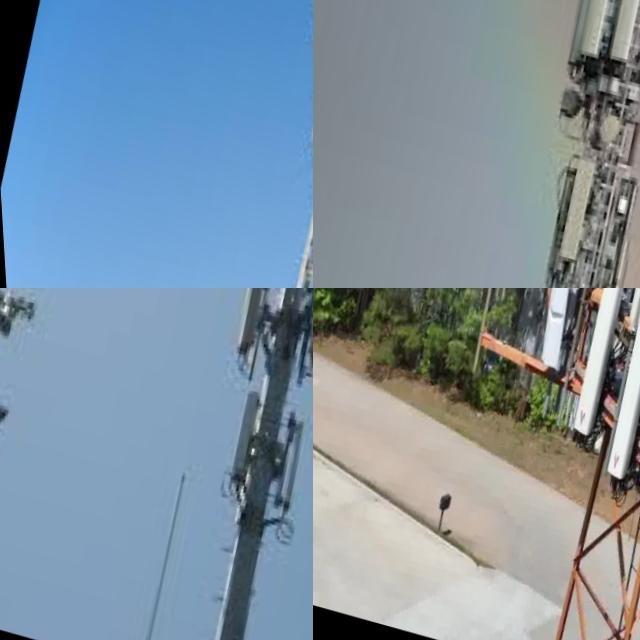GSM Antenna: (551, 288, 638, 446), (583, 288, 640, 493), (216, 288, 294, 370), (257, 406, 313, 518), (520, 288, 588, 380), (214, 385, 264, 492), (549, 153, 598, 261), (561, 0, 639, 61), (591, 0, 640, 69), (620, 355, 640, 492), (304, 77, 313, 133)
Microwave Antenna: (587, 107, 622, 155), (549, 82, 586, 124)
